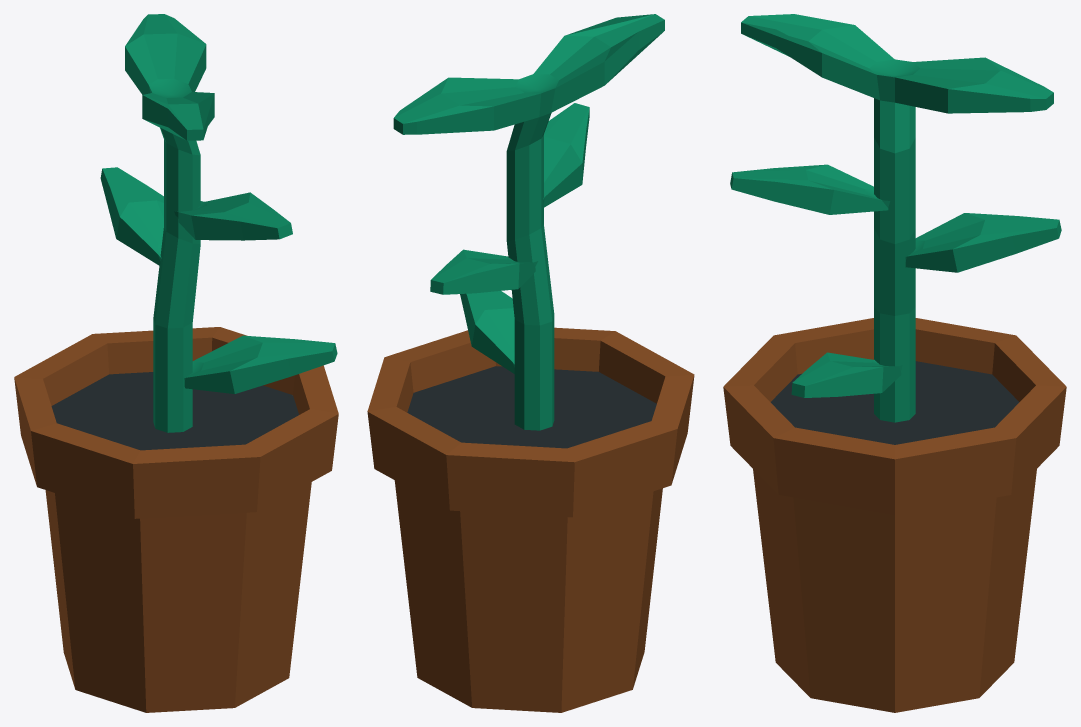
File: rastenie.fbx
3 views of the same model, side by side, from view 1: azimuth 30°, elevation 25°; view 2: azimuth 150°, elevation 25°; view 3: azimuth 270°, elevation 25° (orthographic). The views are drawn at different scales.
Parts seen in each view (by area): view 1: paporotnik; view 2: paporotnik; view 3: paporotnik.
Boxes of the visible parts, box(x1,y1,x2,y2) form: paporotnik: box(14, 14, 338, 712); paporotnik: box(367, 14, 694, 712); paporotnik: box(723, 14, 1066, 712).
Bounding box in the file's own units: 49.87 × 99.31 × 49.87.
Materials: 1 (1 with a texture image).
